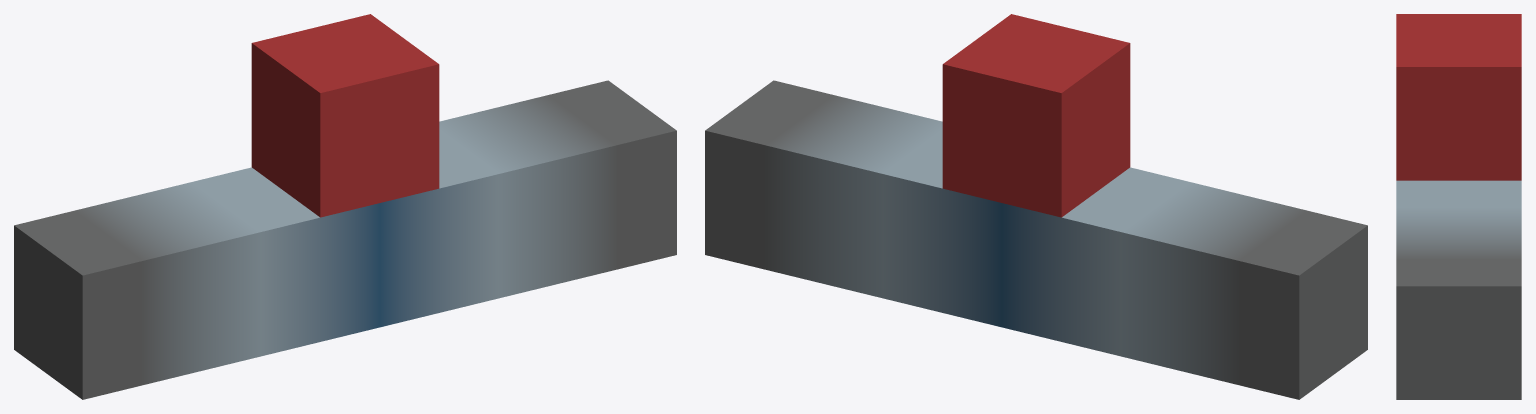
The model's file is bat_1.fbx.
3 views of the same model, side by side, from view 1: azimuth 30°, elevation 25°; view 2: azimuth 150°, elevation 25°; view 3: azimuth 270°, elevation 25° (orthographic). The views are drawn at different scales.
Visible parts, largest first — view 1: bat_1; view 2: bat_1; view 3: bat_1.
Part boxes in pixels (bbox=[...]): bat_1: bbox=[14, 14, 676, 399]; bat_1: bbox=[705, 14, 1367, 399]; bat_1: bbox=[1396, 14, 1521, 399].
Size of the model in its own units: 5 by 2 by 1.
Materials: 1 (1 with a texture image).
